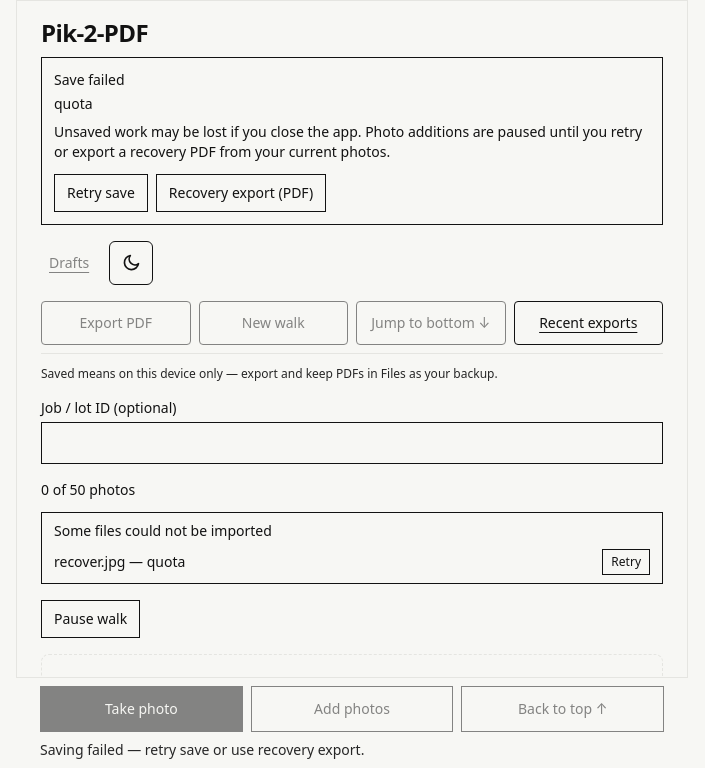
Test: removes a recovered append from failed imports after retrying save
Earlier steps of the test are not shown.
Check: the heading "Pik-2-PDF" is shown, box [41,17,148,49]
Check: the text "recover.jpg" is shown, box [54,552,126,571]
Click the button "Retry save".
click(101, 193)  # box [54,174,148,212]
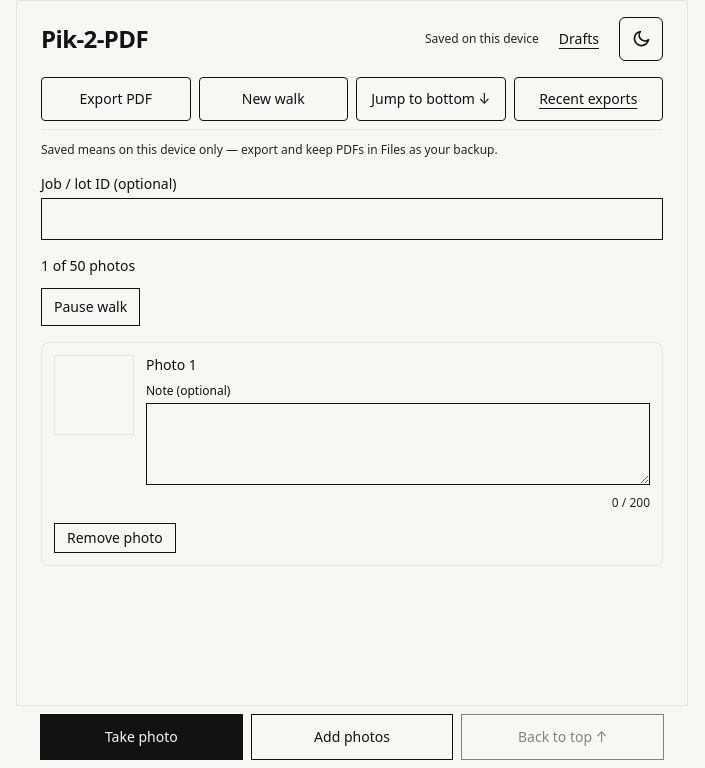
Check: the text "1 of 50 photos" is shown, box [41,256,135,275]
Check: the button "Retry" is gone
